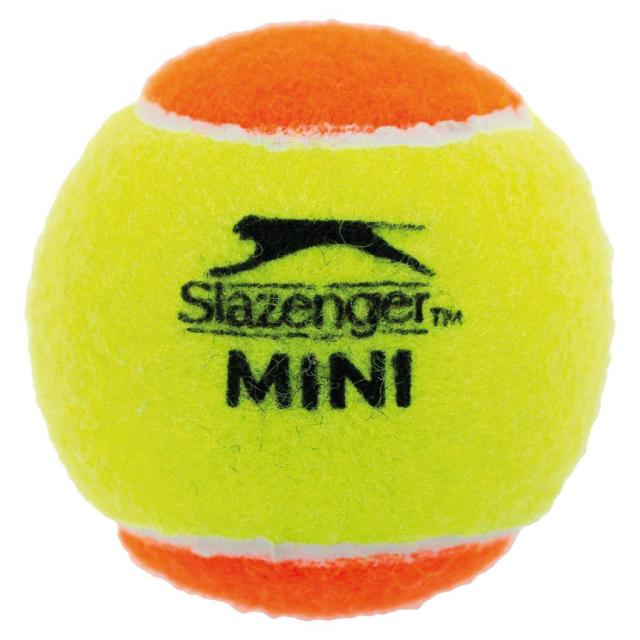ball: (24, 15, 622, 621)
